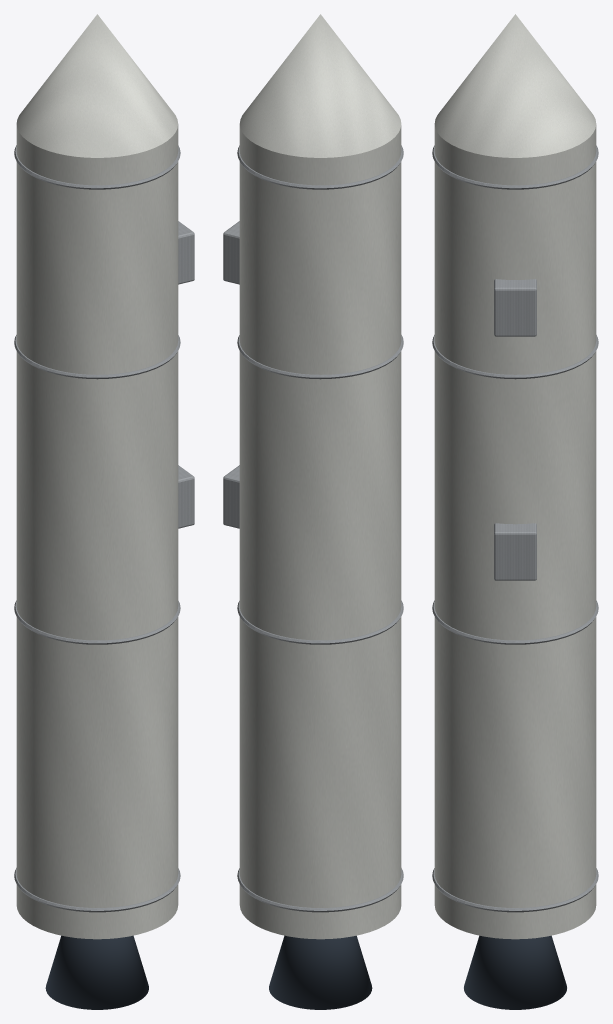
File: booster_small.glb
3 views of the same model, side by side, from view 1: azimuth 30°, elevation 25°; view 2: azimuth 150°, elevation 25°; view 3: azimuth 270°, elevation 25° (orthographic).
Visible parts, largest first — view 1: Booster_Casing, Booster_Nose, Booster_Nozzle, Booster_AttachmentLug, Booster_AttachmentLug.001, Booster_CaseSeam.001, Booster_CaseSeam, Booster_CaseSeam.003, Booster_CaseSeam.002; view 2: Booster_Casing, Booster_Nose, Booster_Nozzle, Booster_AttachmentLug, Booster_AttachmentLug.001, Booster_CaseSeam.001, Booster_CaseSeam, Booster_CaseSeam.003, Booster_CaseSeam.002; view 3: Booster_Casing, Booster_Nose, Booster_Nozzle, Booster_AttachmentLug.001, Booster_AttachmentLug, Booster_CaseSeam, Booster_CaseSeam.001, Booster_CaseSeam.003, Booster_CaseSeam.002.
Part boxes in pixels (x1,y1,x2,y2): Booster_Casing: [16, 124, 178, 939]; Booster_Nose: [16, 14, 178, 157]; Booster_Nozzle: [45, 935, 148, 1009]; Booster_AttachmentLug: [178, 465, 194, 528]; Booster_AttachmentLug.001: [178, 221, 194, 284]; Booster_CaseSeam.001: [14, 600, 180, 644]; Booster_CaseSeam: [14, 868, 180, 912]; Booster_CaseSeam.003: [14, 145, 180, 189]; Booster_CaseSeam.002: [14, 335, 180, 379]; Booster_Casing: [239, 124, 401, 939]; Booster_Nose: [239, 14, 401, 157]; Booster_Nozzle: [269, 935, 372, 1009]; Booster_AttachmentLug: [223, 465, 239, 528]; Booster_AttachmentLug.001: [223, 221, 239, 284]; Booster_CaseSeam.001: [237, 600, 403, 644]; Booster_CaseSeam: [237, 868, 403, 912]; Booster_CaseSeam.003: [237, 145, 403, 189]; Booster_CaseSeam.002: [237, 335, 403, 379]; Booster_Casing: [434, 125, 596, 939]; Booster_Nose: [434, 14, 596, 157]; Booster_Nozzle: [464, 935, 566, 1009]; Booster_AttachmentLug.001: [494, 279, 536, 336]; Booster_AttachmentLug: [494, 523, 536, 580]; Booster_CaseSeam: [432, 868, 598, 912]; Booster_CaseSeam.001: [432, 600, 598, 644]; Booster_CaseSeam.003: [432, 145, 598, 189]; Booster_CaseSeam.002: [432, 335, 598, 379].
Bounding box in the file's own units: 0.684 × 3.99 × 0.618.
3 materials, 2 textured.
